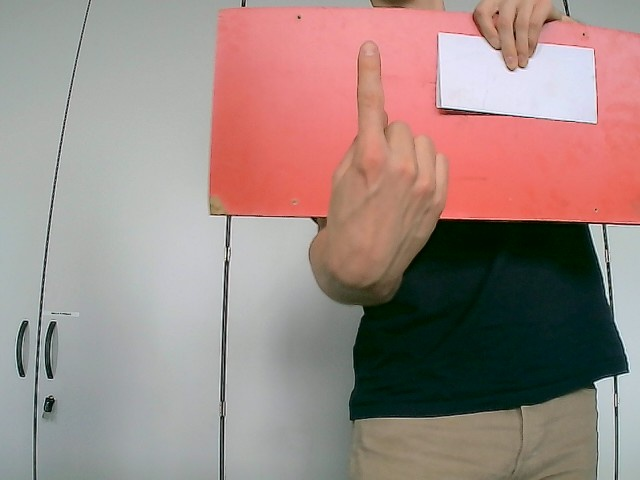no_gesture: (468, 0, 573, 70)
up: (308, 38, 450, 307)
